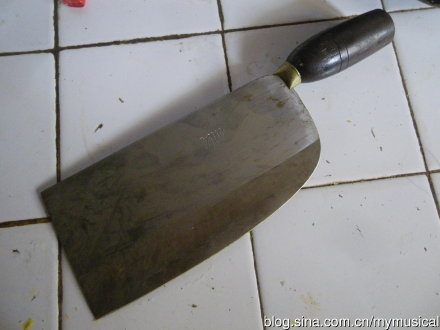knief: (74, 13, 398, 325)
